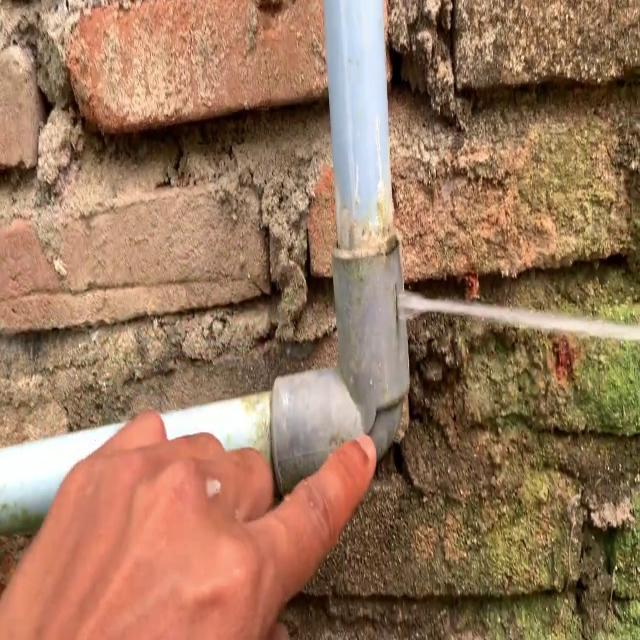leak: (398, 290, 640, 342)
